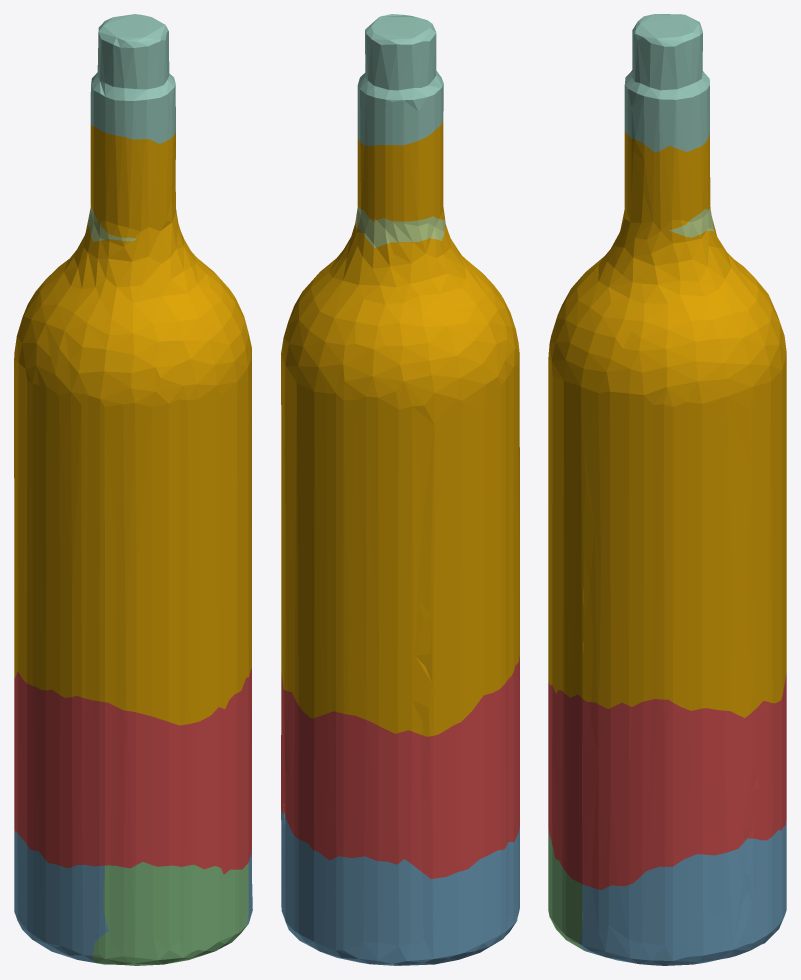
The model's file is fractured_46_6pcs.glb.
3 views of the same model, side by side, from view 1: azimuth 30°, elevation 25°; view 2: azimuth 150°, elevation 25°; view 3: azimuth 270°, elevation 25° (orthographic).
Visible parts, largest first — view 1: piece_0.obj, piece_1.obj, piece_3.obj, piece_4.obj, piece_2.obj; view 2: piece_0.obj, piece_1.obj, piece_2.obj, piece_4.obj, piece_5.obj; view 3: piece_0.obj, piece_1.obj, piece_2.obj, piece_4.obj, piece_3.obj, piece_5.obj.
Boxes of the visible parts, x1,y1,x2,y2 form: piece_0.obj: [14, 124, 251, 725]; piece_1.obj: [14, 667, 251, 874]; piece_3.obj: [92, 862, 248, 965]; piece_4.obj: [90, 14, 175, 143]; piece_2.obj: [14, 830, 252, 962]; piece_0.obj: [281, 120, 519, 736]; piece_1.obj: [281, 656, 519, 878]; piece_2.obj: [281, 810, 519, 965]; piece_4.obj: [357, 14, 443, 145]; piece_5.obj: [355, 206, 445, 247]; piece_0.obj: [548, 131, 786, 717]; piece_1.obj: [548, 672, 786, 890]; piece_2.obj: [579, 819, 786, 965]; piece_4.obj: [624, 14, 709, 152]; piece_3.obj: [548, 828, 584, 950]; piece_5.obj: [668, 208, 714, 237].
Size of the model in its own units: 0.2415 by 1 by 0.2415.
